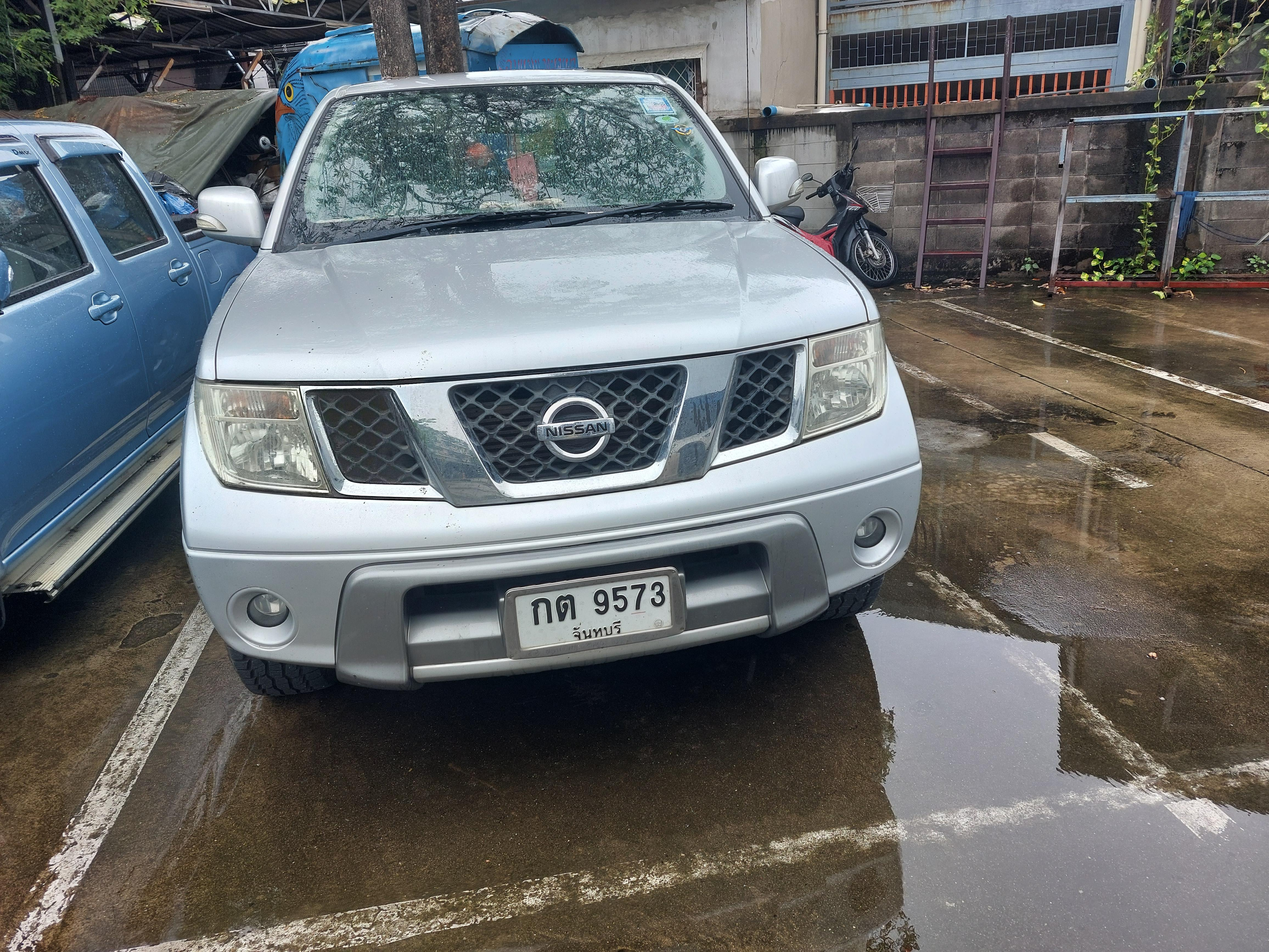license-plate: (501, 561, 687, 664)
